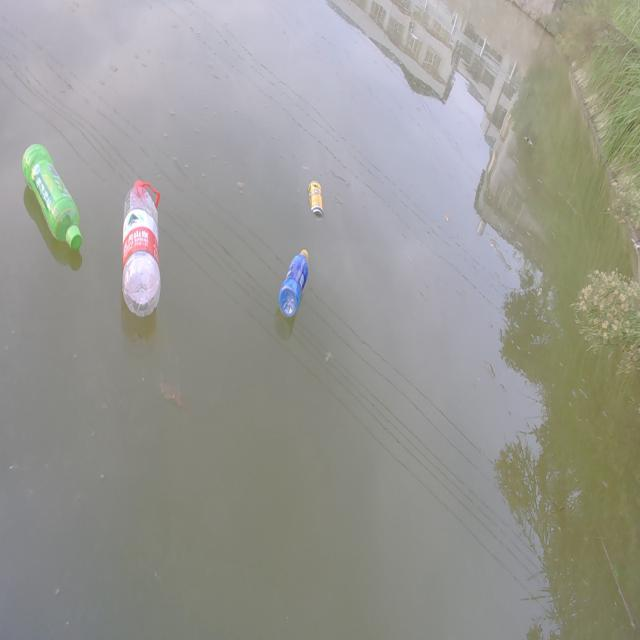garbage: (21, 142, 81, 252), (121, 178, 161, 316), (278, 248, 308, 318), (307, 180, 323, 218)
